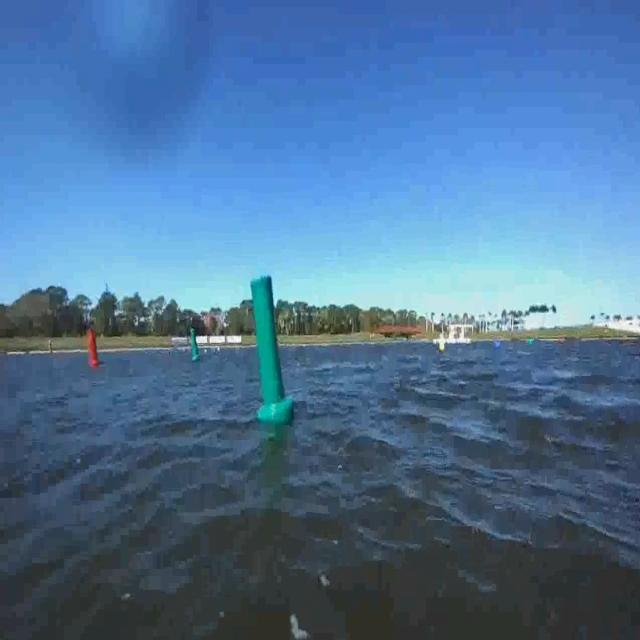blue-buoy: (494, 340, 501, 352)
green-column-buoy: (250, 271, 293, 426), (191, 328, 203, 364)
red-column-buoy: (88, 328, 102, 367)
yellow-buoy: (440, 342, 447, 355)
